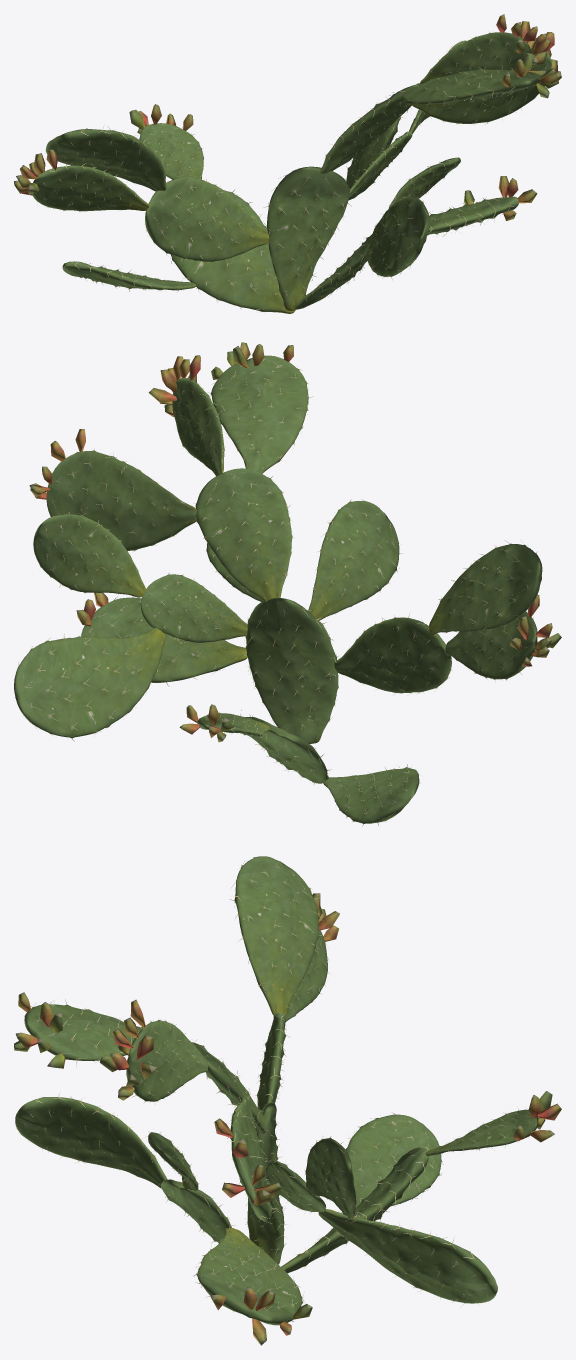
The model's file is Opuntia ficus-indica HD_Drooping fruits mat 40_LOD2.fbx.
The picture shows the model from 3 angles, top to bottom: view 1: azimuth 30°, elevation 25°; view 2: azimuth 150°, elevation 25°; view 3: azimuth 270°, elevation 25°; orthographic projection. The views are drawn at different scales.
Visible parts, largest first — view 1: Opuntia_ficus_indica_HD; view 2: Opuntia_ficus_indica_HD; view 3: Opuntia_ficus_indica_HD.
Boxes of the visible parts, x1,y1,x2,y2 form: Opuntia_ficus_indica_HD: (14, 14, 561, 313); Opuntia_ficus_indica_HD: (14, 342, 561, 826); Opuntia_ficus_indica_HD: (14, 856, 561, 1345).
Bounding box in the file's own units: 1.58 × 0.8951 × 1.21.
Materials: 12 (12 with a texture image).
